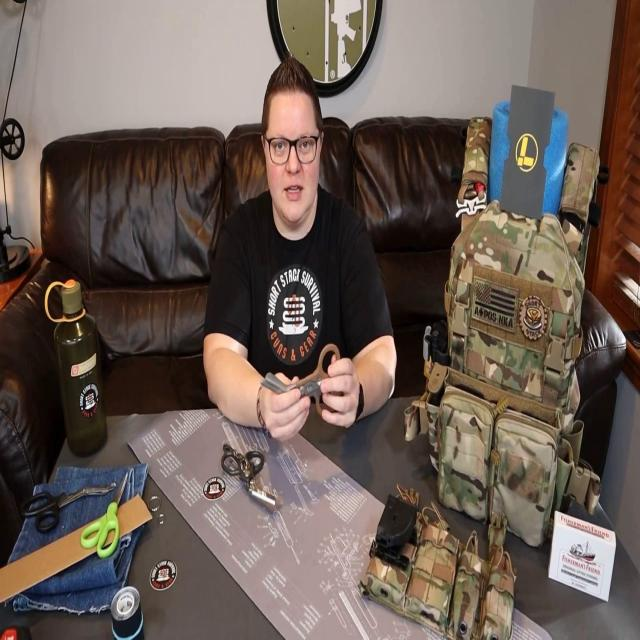scissor: (260, 343, 340, 416), (21, 482, 116, 532), (80, 473, 128, 556), (220, 443, 276, 506)
